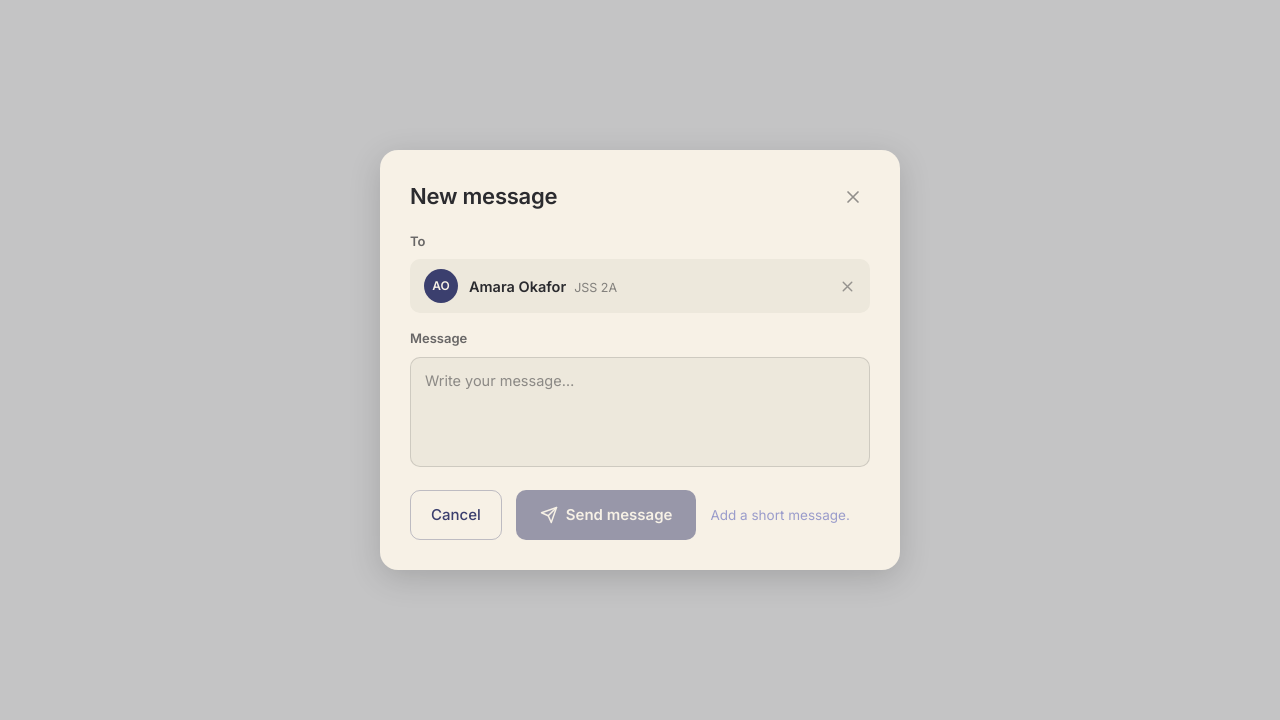
Test: the link that names a child › lets the teacher choose somebody else instead
Expected: the text "Amara Okafor" is shown, [469,278,566,295]
Click the button named "Choose a different student" at (848, 286), box [839,278,856,295]
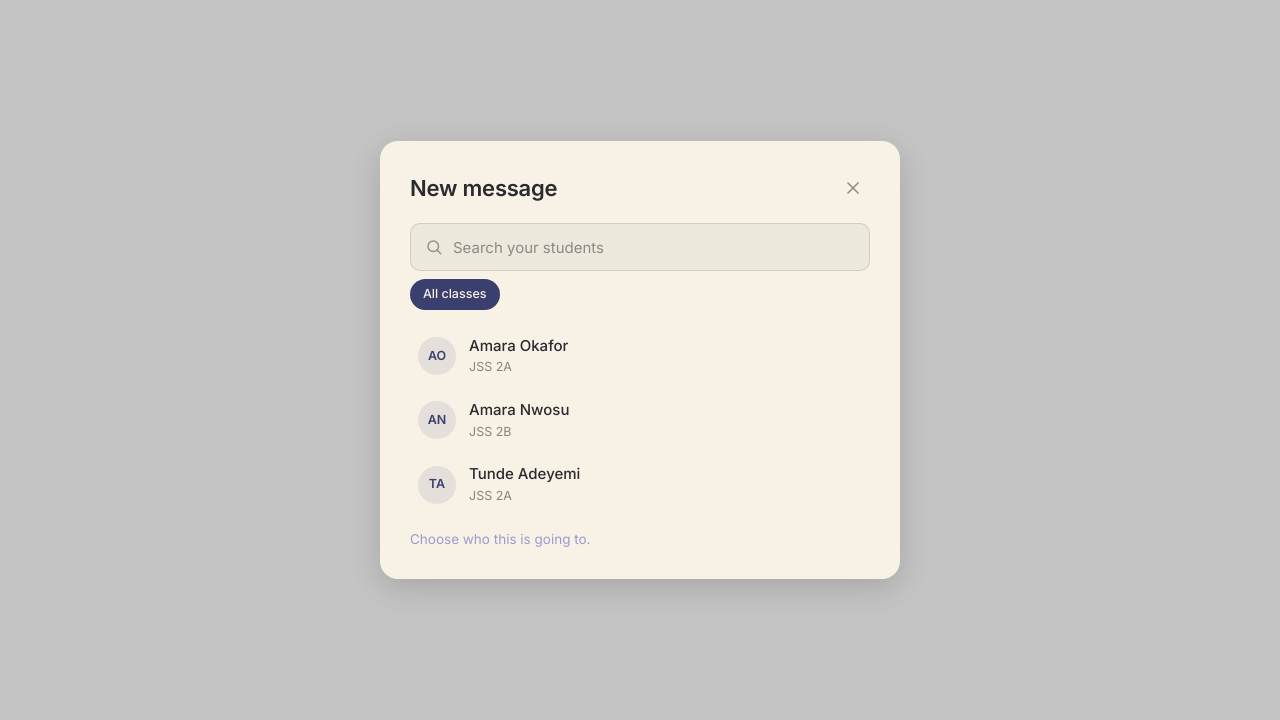
Expected: the field with placeholder "Search your students" is shown, [410,223,870,271]
Click the text "Tunde Adeyemi" at (525, 474), box [469,464,580,483]
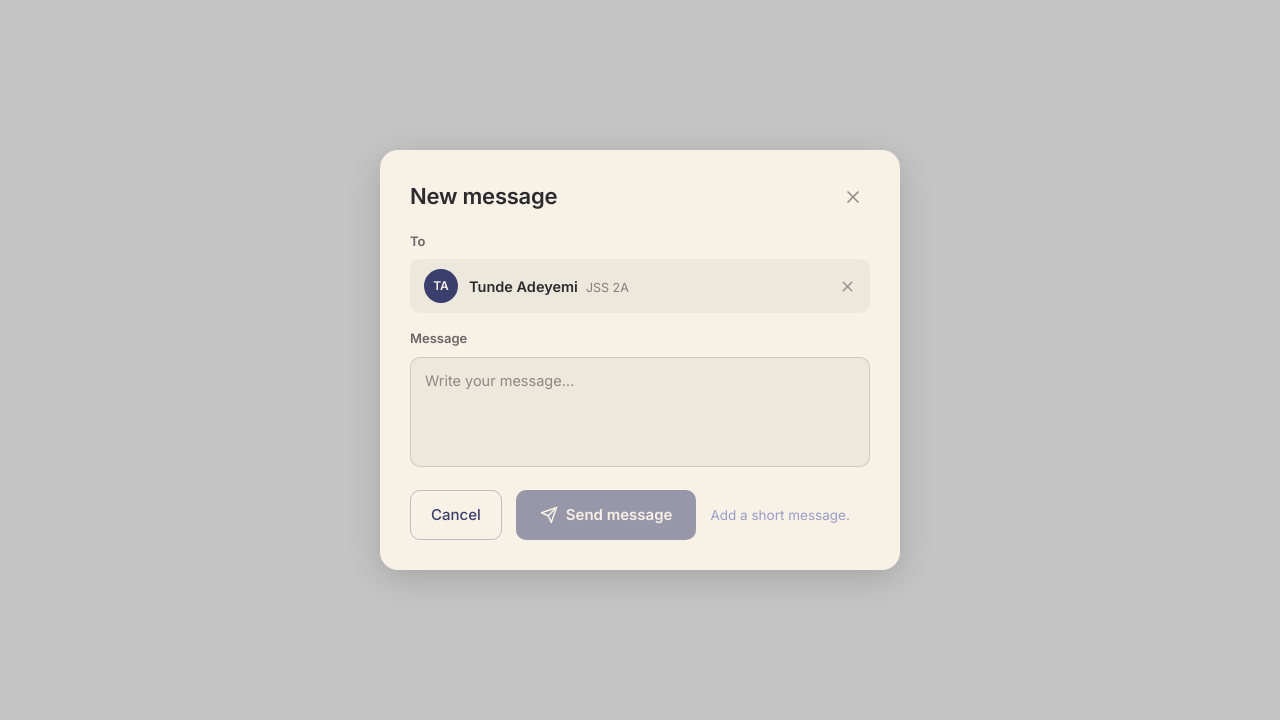
Expected: the text "Tunde Adeyemi" is shown, [469,278,578,295]
Expected: the button "Amara Okafor" is gone
